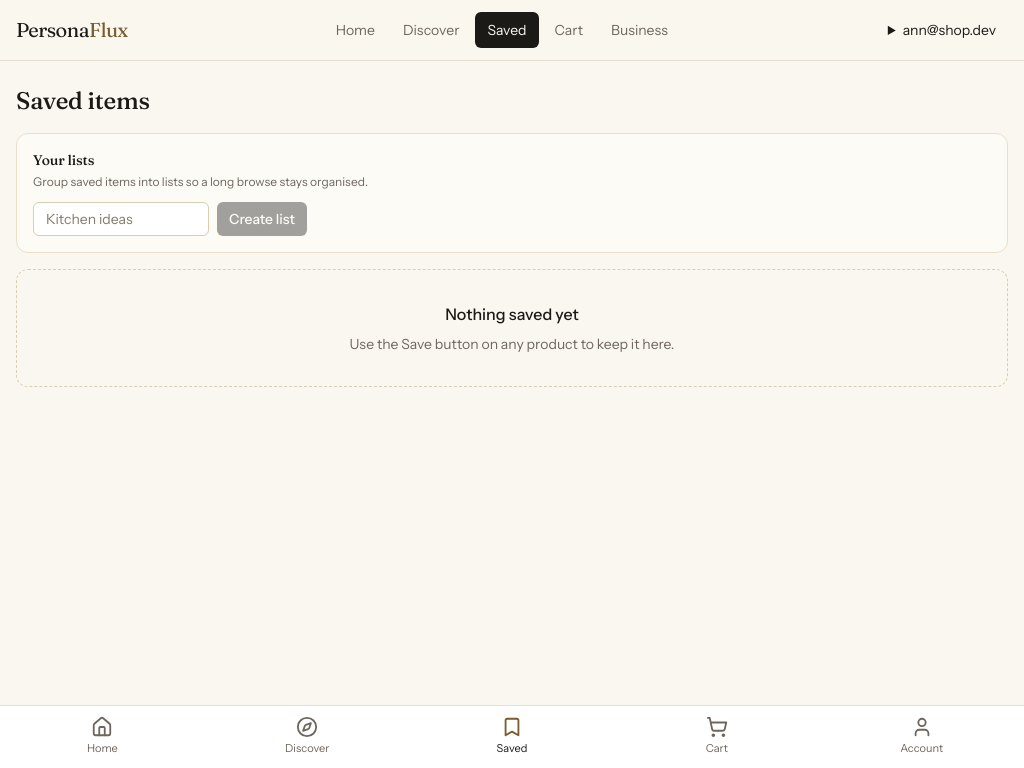
it: curated lists › shows the server's reason when a name is refused
Type "Gifts" into the field named "New list name".
click(121, 219); type("Gifts")  # box [33,202,209,236]
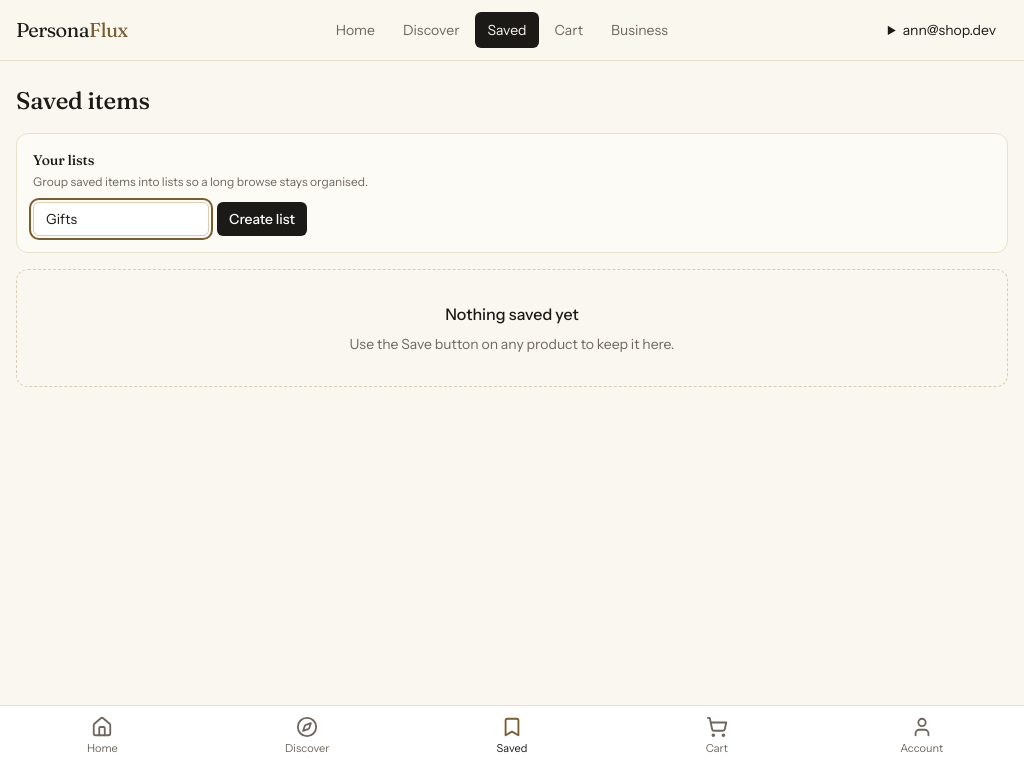
Click the button "Create list".
click(262, 219)  # box [217,202,307,236]
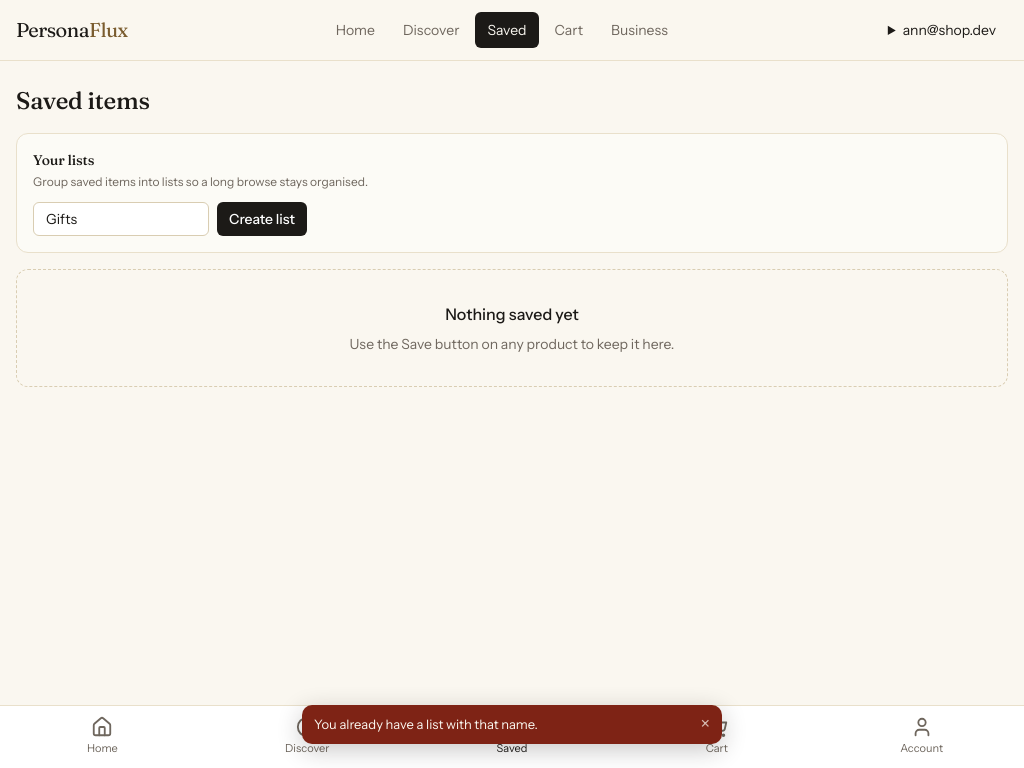
Expected: the text "You already have a list with that name." is shown, [314,716,538,732]
